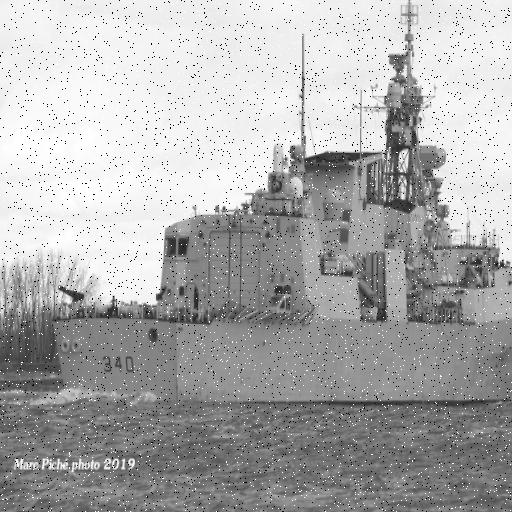Fragata: (45, 1, 512, 414)
